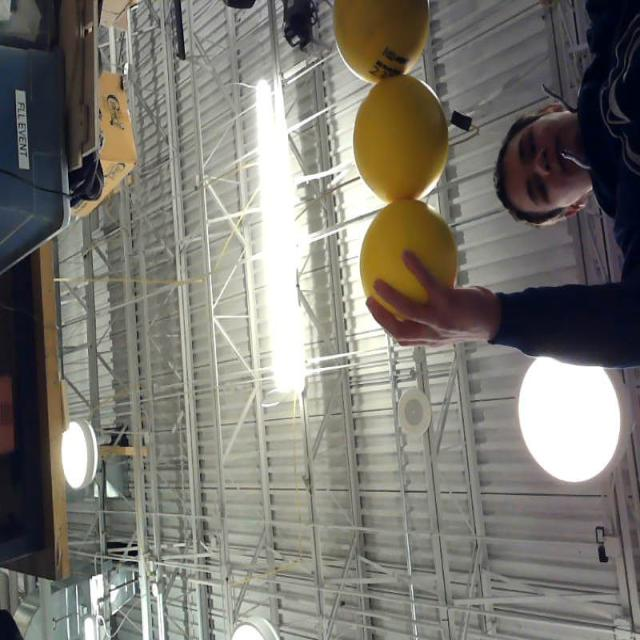Fuel: (359, 198, 457, 328), (353, 74, 448, 204), (333, 0, 431, 84)
